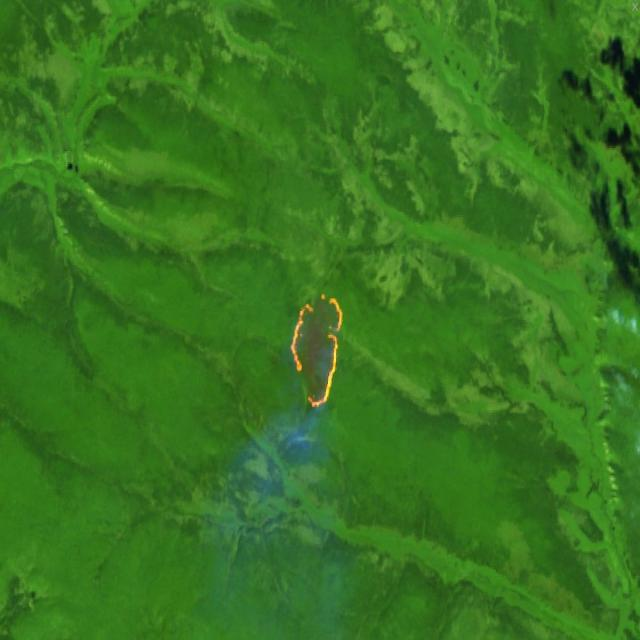fire: (288, 290, 346, 413)
